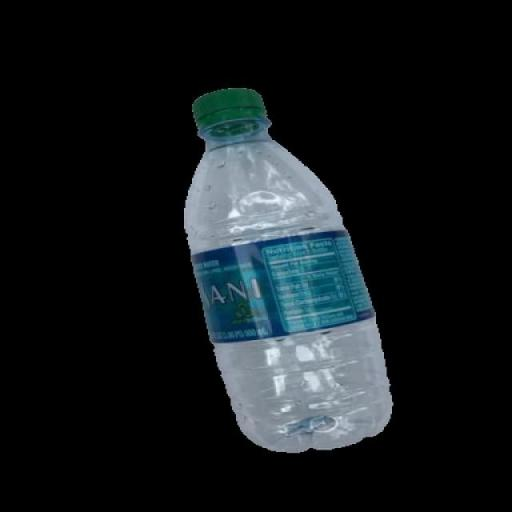plastic: (177, 87, 394, 452)
